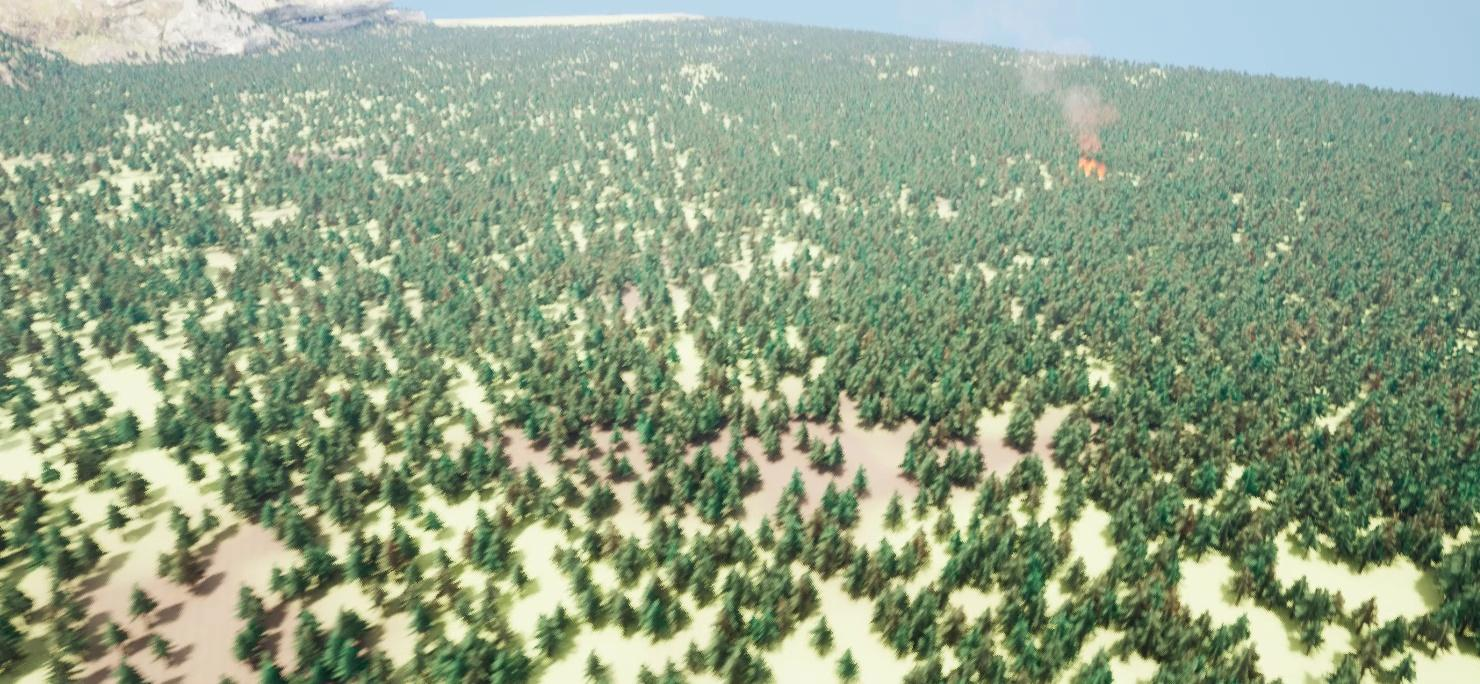fire: (1082, 143, 1108, 174)
smoke: (961, 10, 1120, 144)
